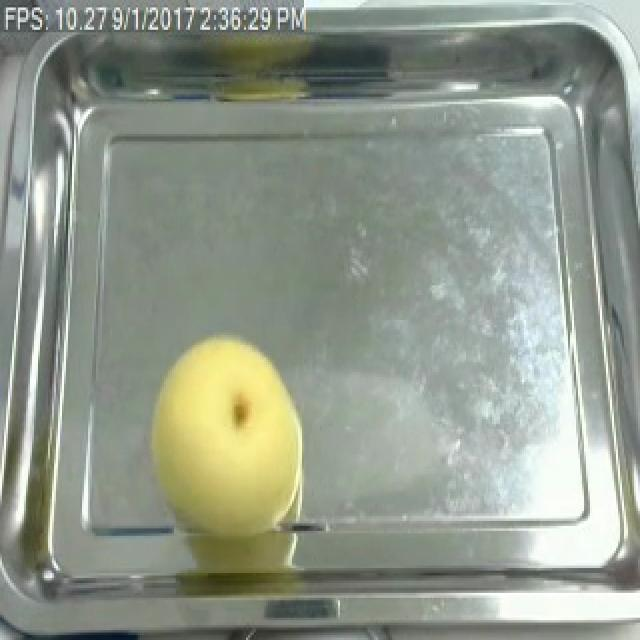Fruit: (138, 322, 318, 538)
